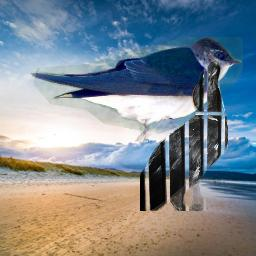Crow: (140, 62, 228, 211)
Swallow: (31, 37, 243, 142)
